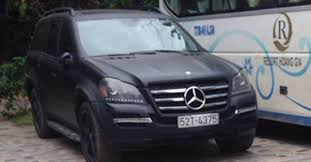Bien-so: (178, 113, 219, 128)
